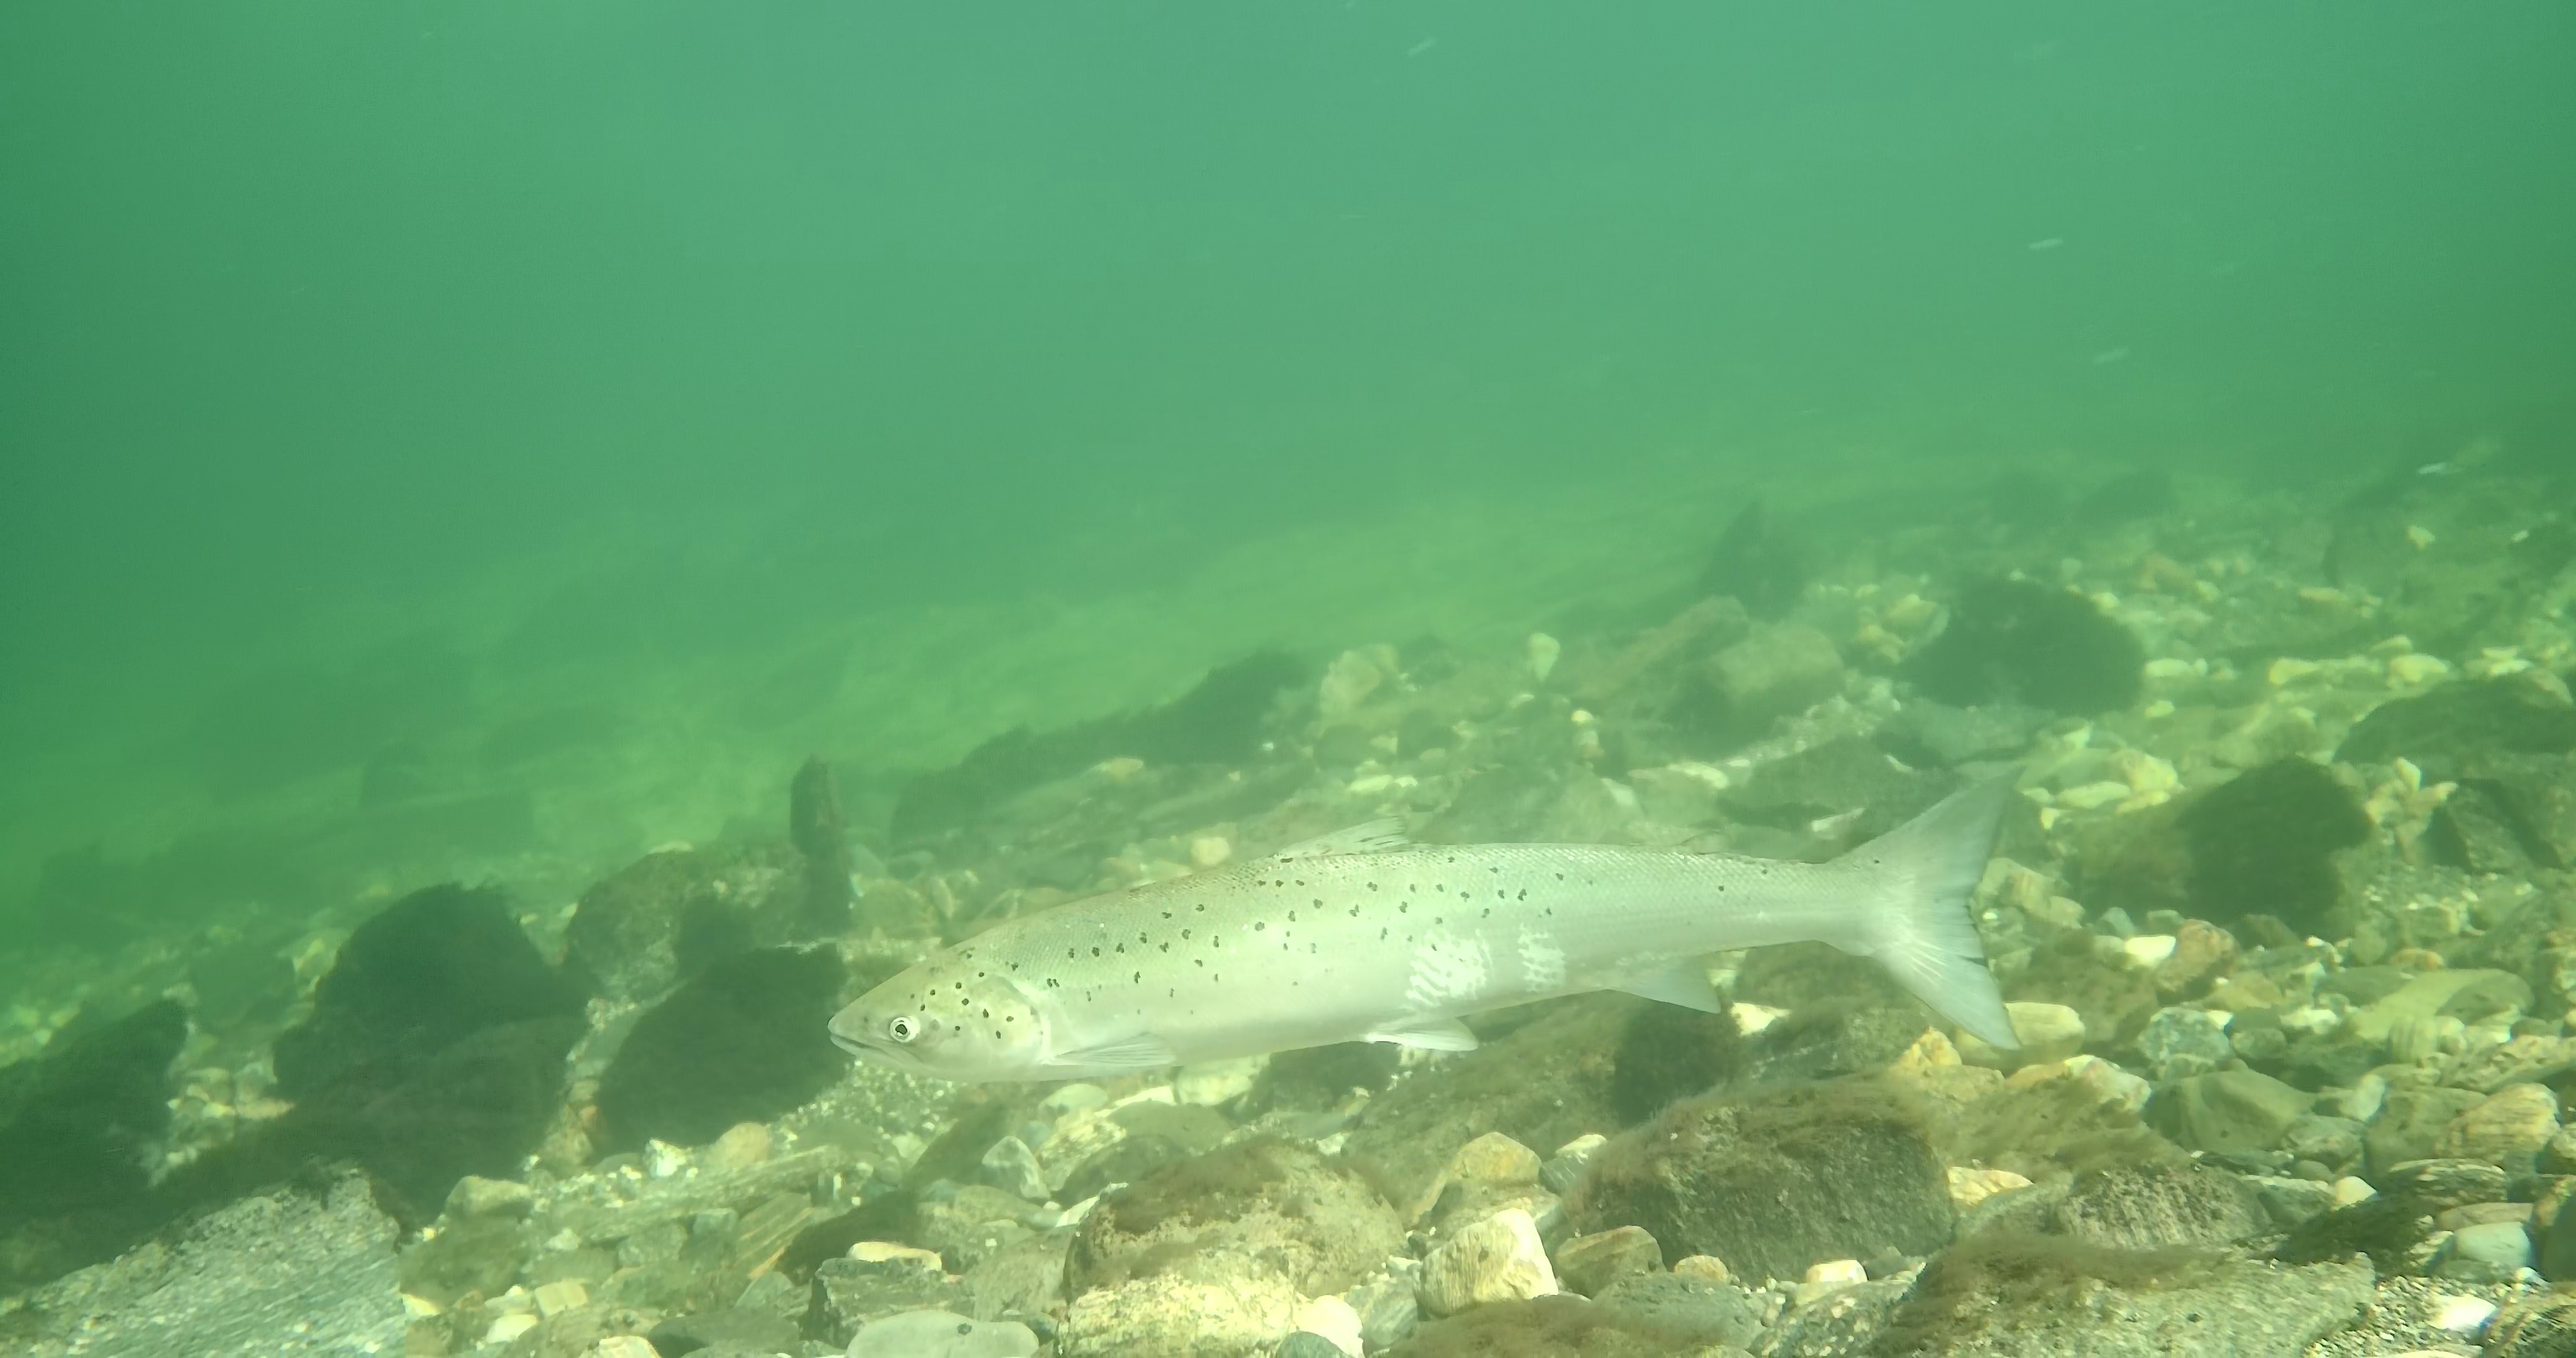salmon: (823, 763, 2027, 1085)
